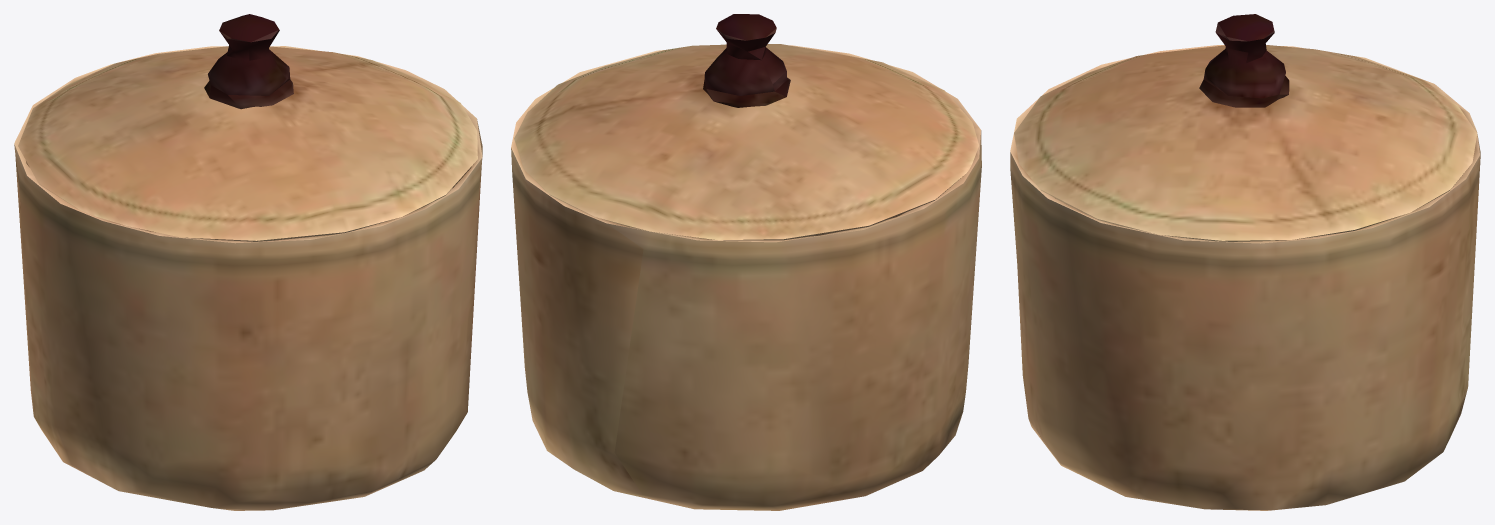
File: brass_pot.glb
The picture shows the model from 3 angles, left to right: view 1: azimuth 30°, elevation 25°; view 2: azimuth 150°, elevation 25°; view 3: azimuth 270°, elevation 25°; orthographic projection.
Visible parts, largest first — view 1: brass_pot; view 2: brass_pot; view 3: brass_pot.
Part boxes in pixels (x1=…): brass_pot: x1=14, y1=14, x2=482, y2=510; brass_pot: x1=511, y1=14, x2=981, y2=510; brass_pot: x1=1010, y1=14, x2=1480, y2=510.
Bounding box in the file's own units: 0.2997 × 0.2908 × 0.2996.
Materials: 1 (1 with a texture image).
